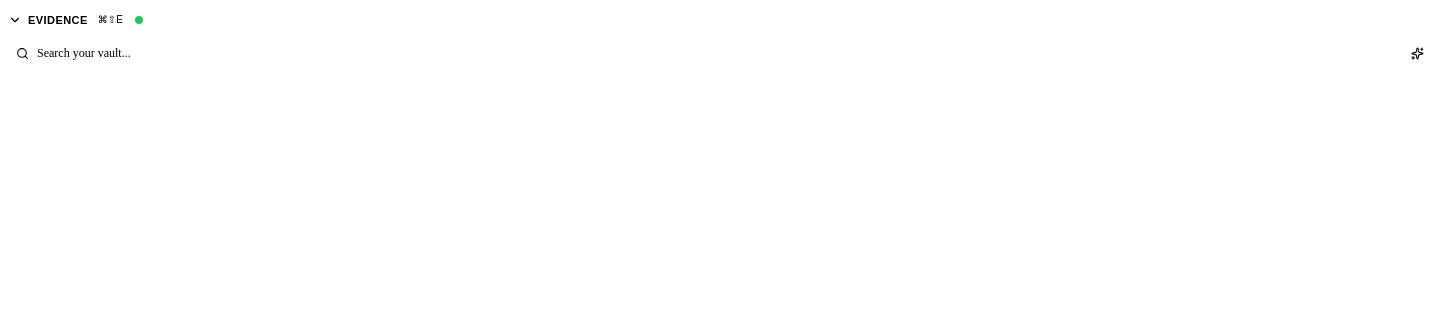
EvidenceRail › executes search on manual input and shows results
Type a query
Type "test query" into the field with class "search-input".
click(712, 54); type("test query")  # box [35,45,1389,62]
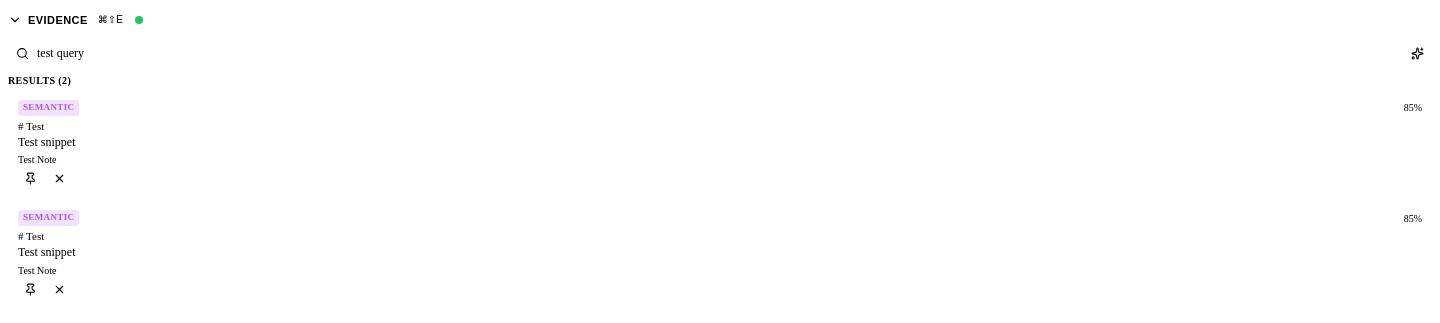
Check: the element with class "results-section" is shown
Check: the element with class "results-section" shows "Results", box [8,75,71,86]
